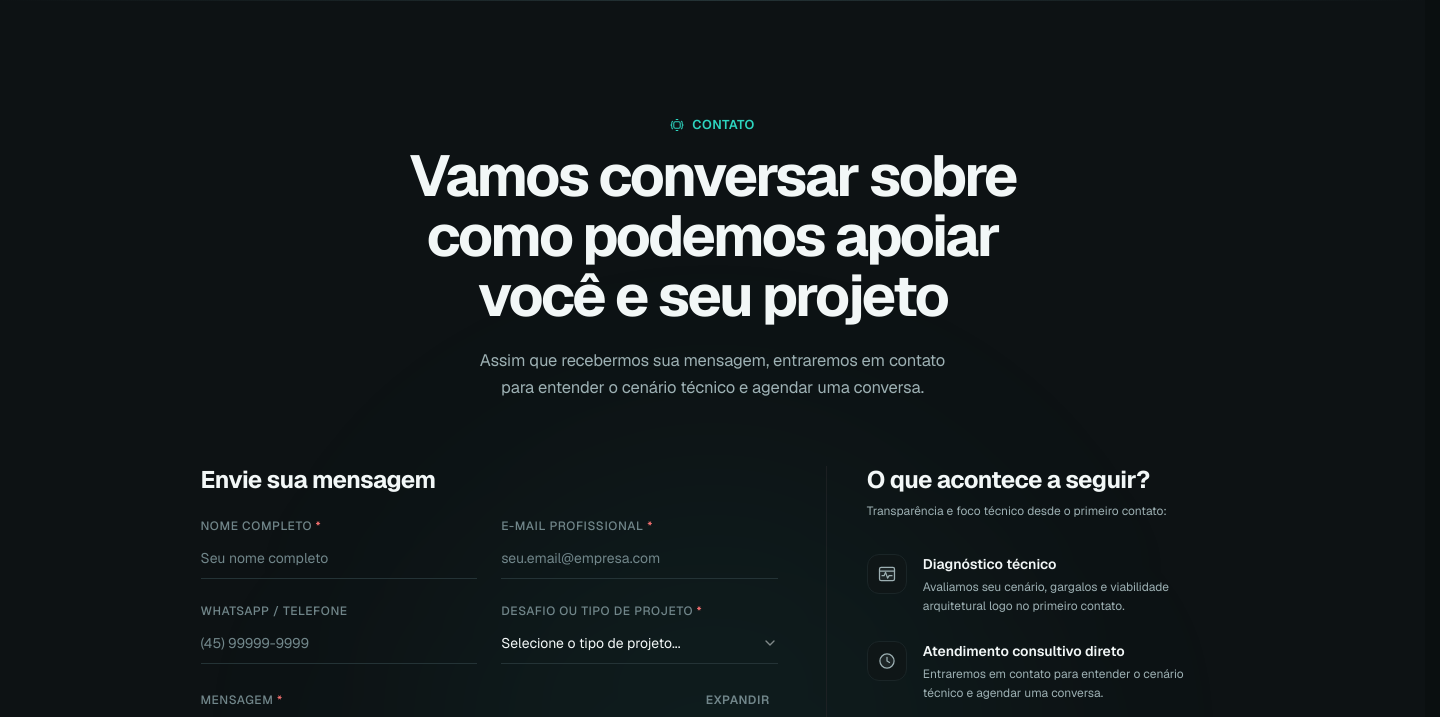
Test: Contact Component › rejeita caracteres alfabéticos no campo de WhatsApp/Telefone
In the field labelled "WhatsApp / Telefone": {"x": 339, "y": 644} [200,623,477,664], type "wewqewqeq"
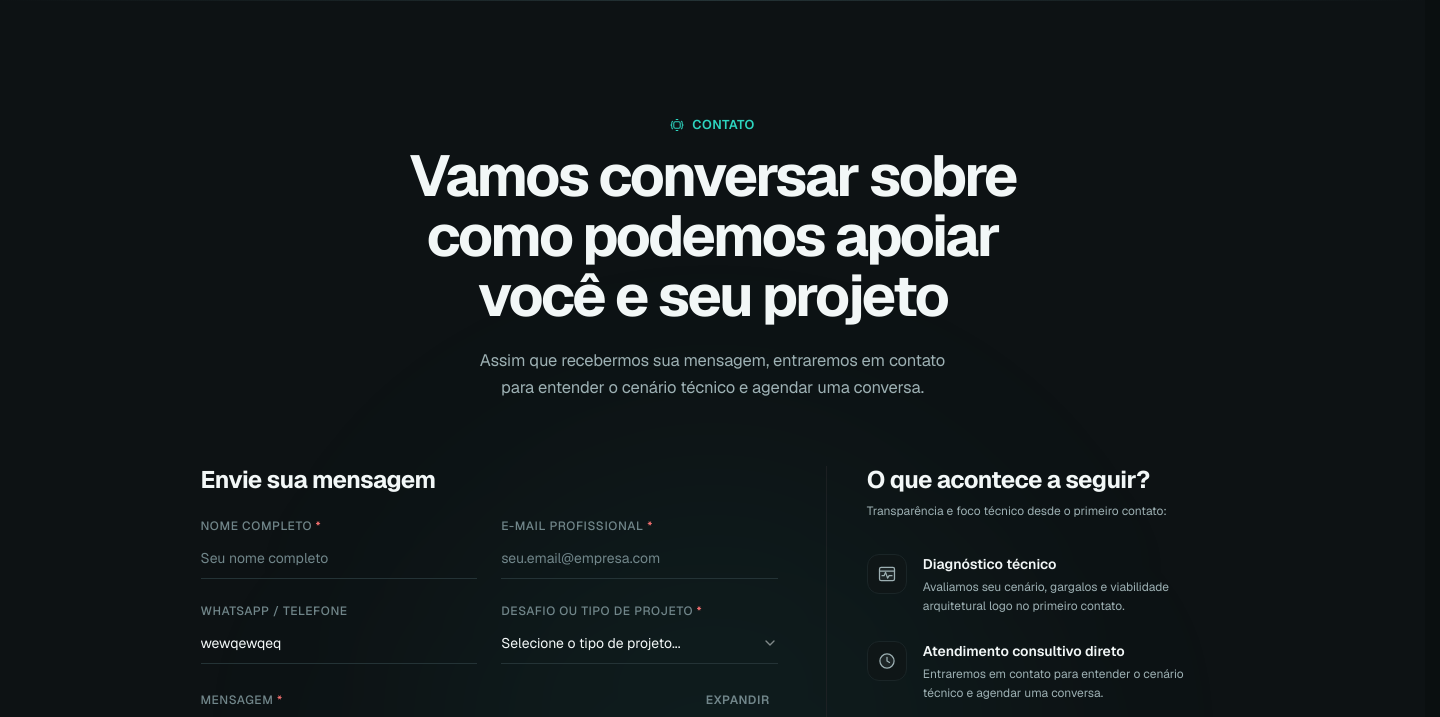
Leave the field labelled "WhatsApp / Telefone", box [200,623,477,664]
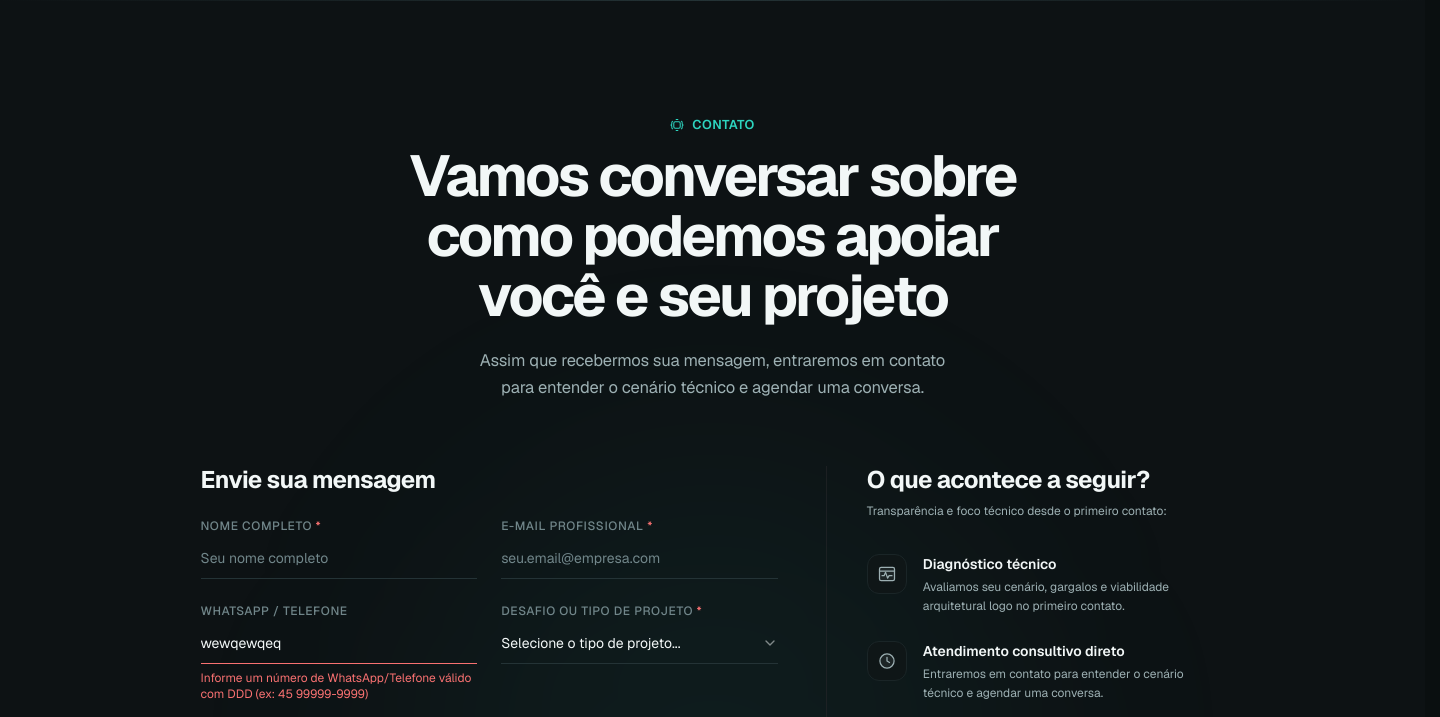
Expected: the text "Informe um número de WhatsApp/Telefone válido com DDD" is shown, [200,670,471,702]
